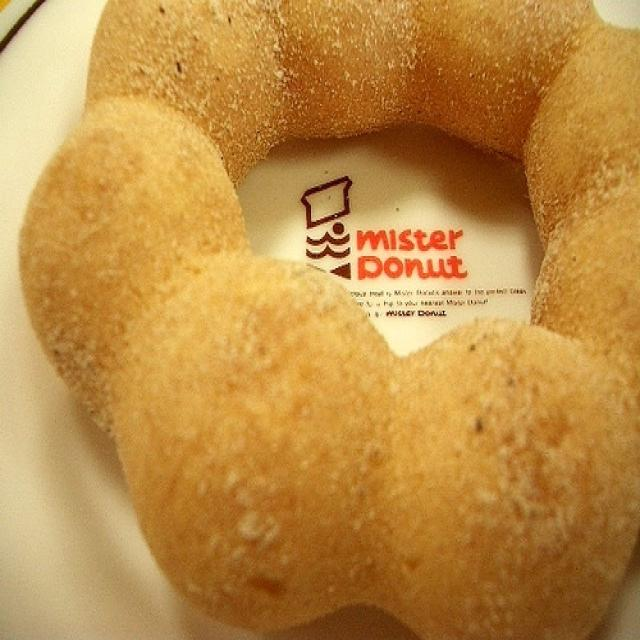炸货点心: (8, 5, 631, 637)
